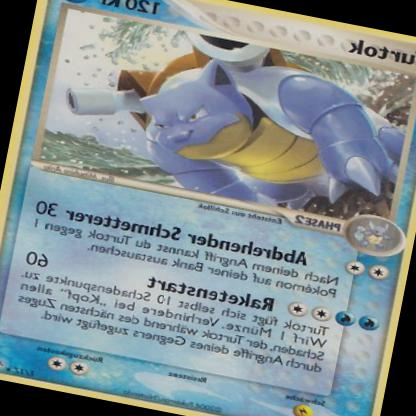Blastoise: (78, 17, 416, 228)
